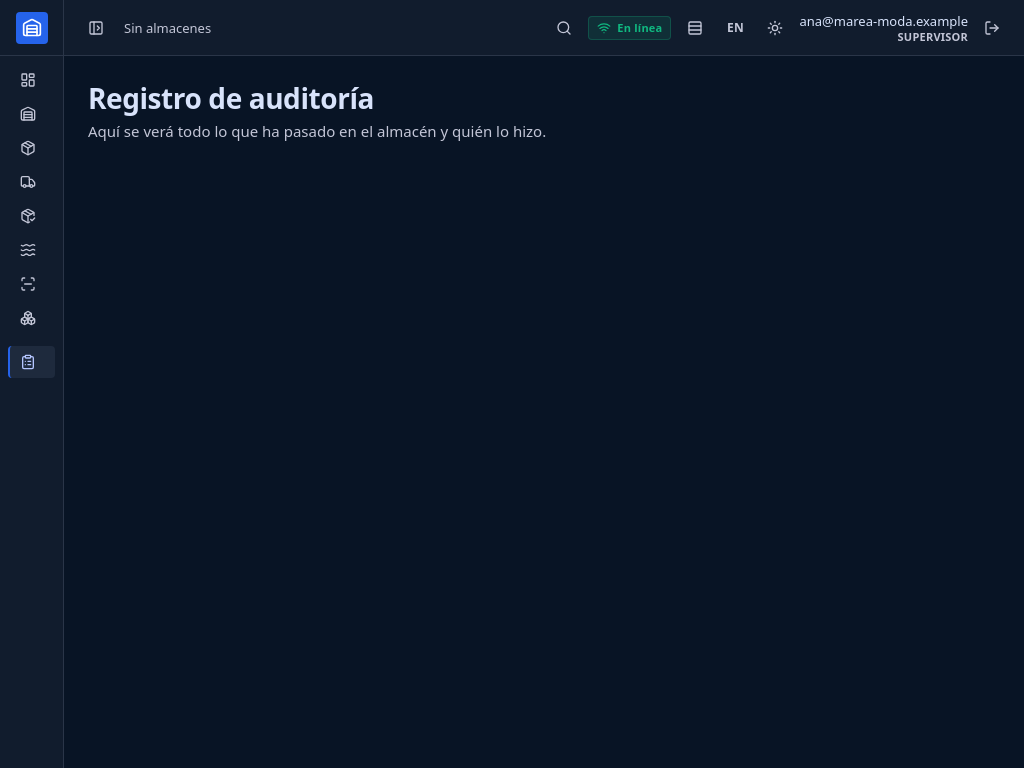
Test: routes and authentication › signs out and does not return to the page the user left
Click the button named "Cerrar sesión".
click(992, 28)  # box [976,12,1008,44]
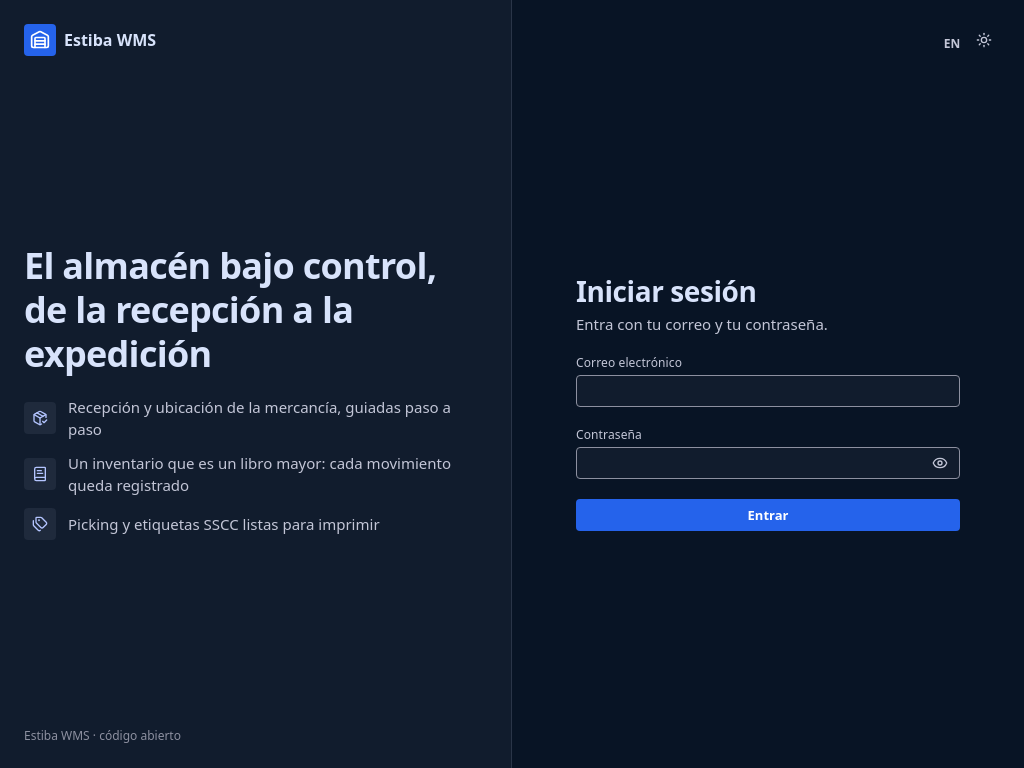
Expected: the heading "Iniciar sesión" is shown, [576,272,756,310]
